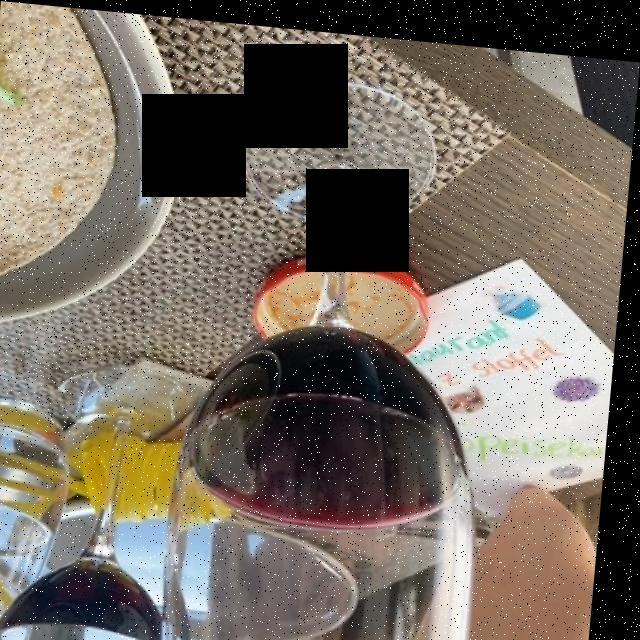wine: (206, 328, 459, 516)
